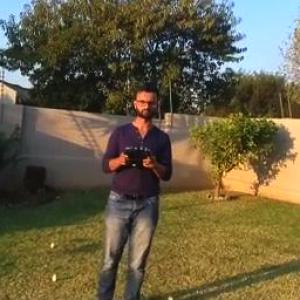follow: (94, 78, 182, 299)
